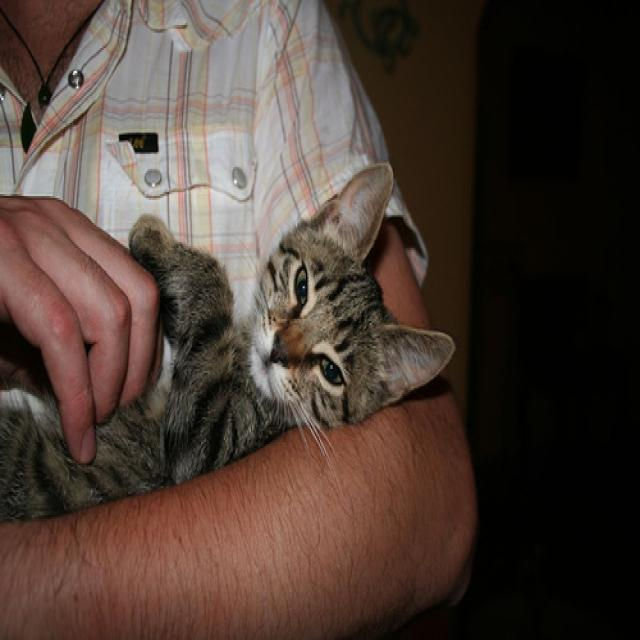cat: (1, 161, 457, 524)
